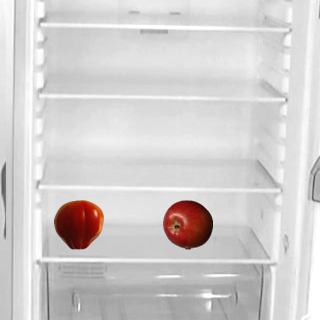Apple Braeburn: (162, 199, 212, 249)
Tomato 1: (53, 199, 103, 249)
